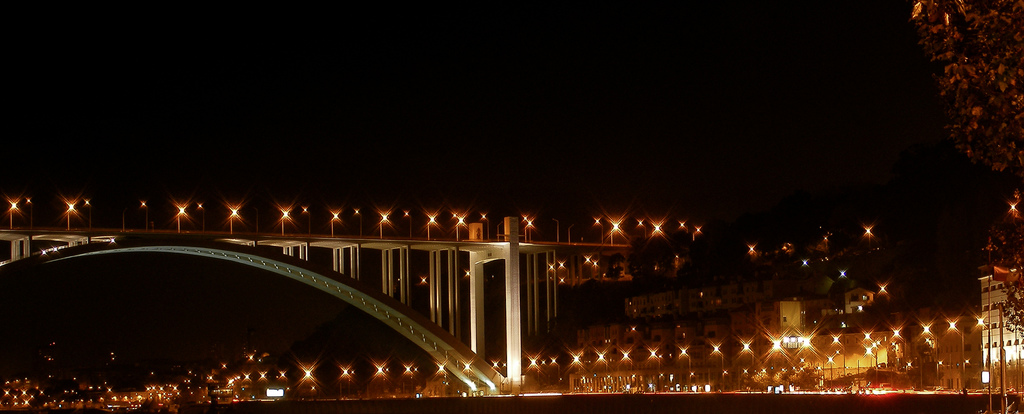arrabida: (0, 218, 641, 397)
